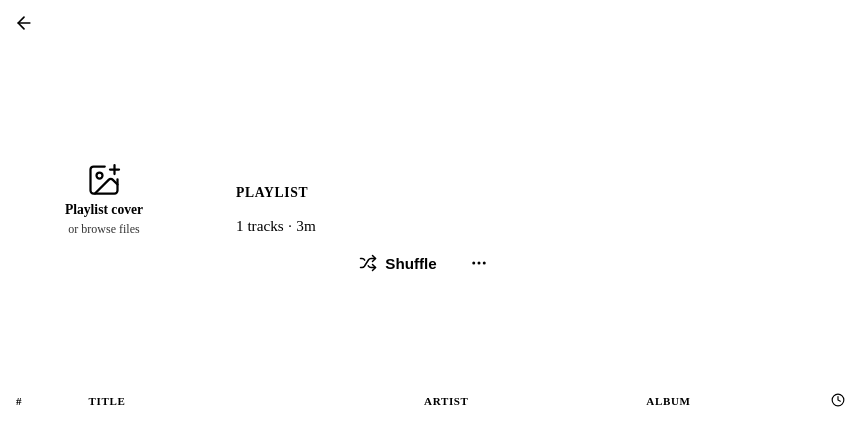
Test: Playlists.vue › more options menu › opens on click for a real playlist and lists rename + delete
This screenshot has width=862, height=424.
Click the button with class "more-options-btn" at (479, 263), box x1=459 y1=243 x2=499 y2=283
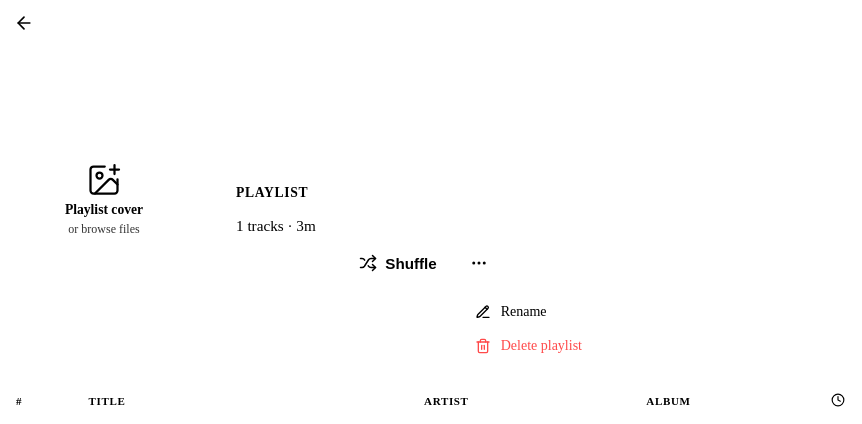
Now the element with class "hero-menu" is shown, box x1=475 y1=304 x2=582 y2=354
Now the elements with class "dropdown-item" read "Rename", "Delete playlist", in this order, box x1=475 y1=304 x2=547 y2=320; x1=475 y1=338 x2=582 y2=354
